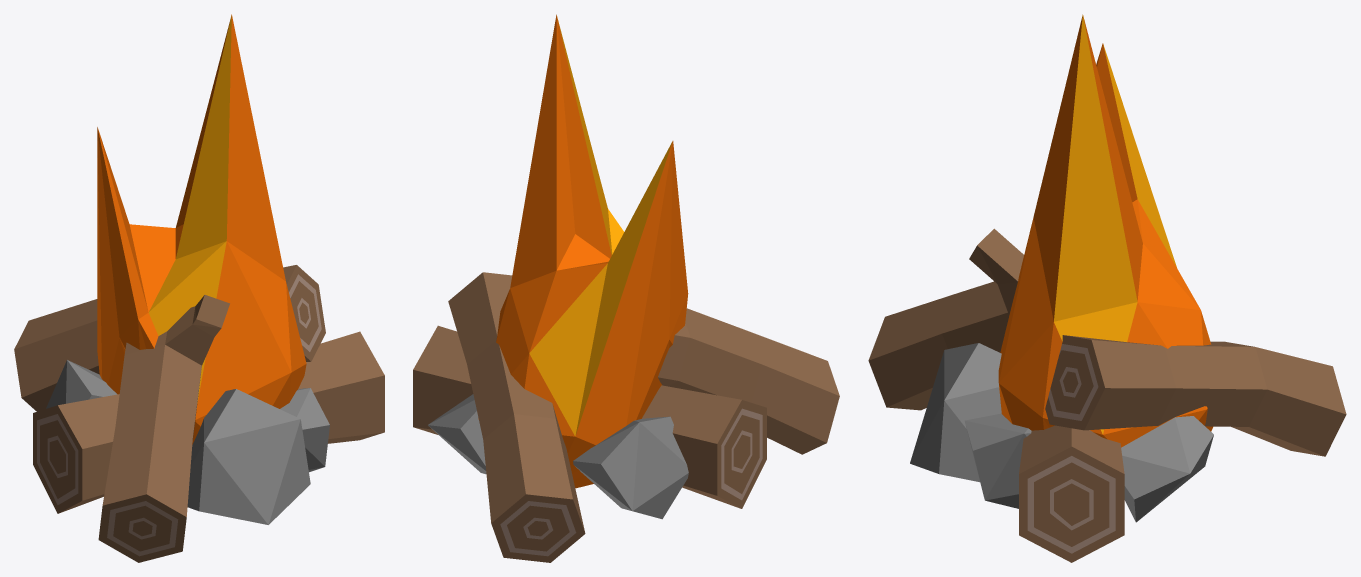
Rendered from 1224 Campfire.gltf.
3 views of the same model, side by side, from view 1: azimuth 30°, elevation 25°; view 2: azimuth 150°, elevation 25°; view 3: azimuth 270°, elevation 25° (orthographic). The views are drawn at different scales.
Parts seen in each view (by area): view 1: node-0; view 2: node-0; view 3: node-0.
Boxes of the visible parts, left/top/right/bottom form: node-0: left=14, top=14, right=384, bottom=562; node-0: left=413, top=14, right=839, bottom=562; node-0: left=868, top=14, right=1346, bottom=562.
Size of the model in its own units: 69.42 by 91.33 by 81.66.
1 material, 1 textured.
